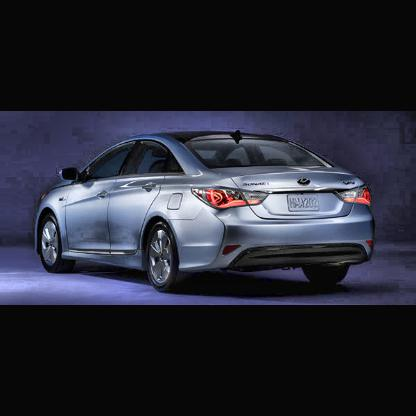Hyundai Sonata Hybrid Sedan 2012: (37, 132, 373, 294)
